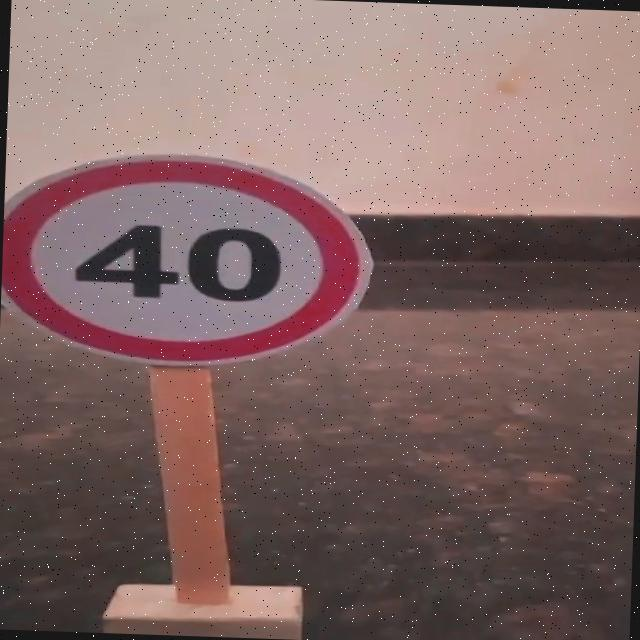Speed40: (0, 138, 387, 375)
